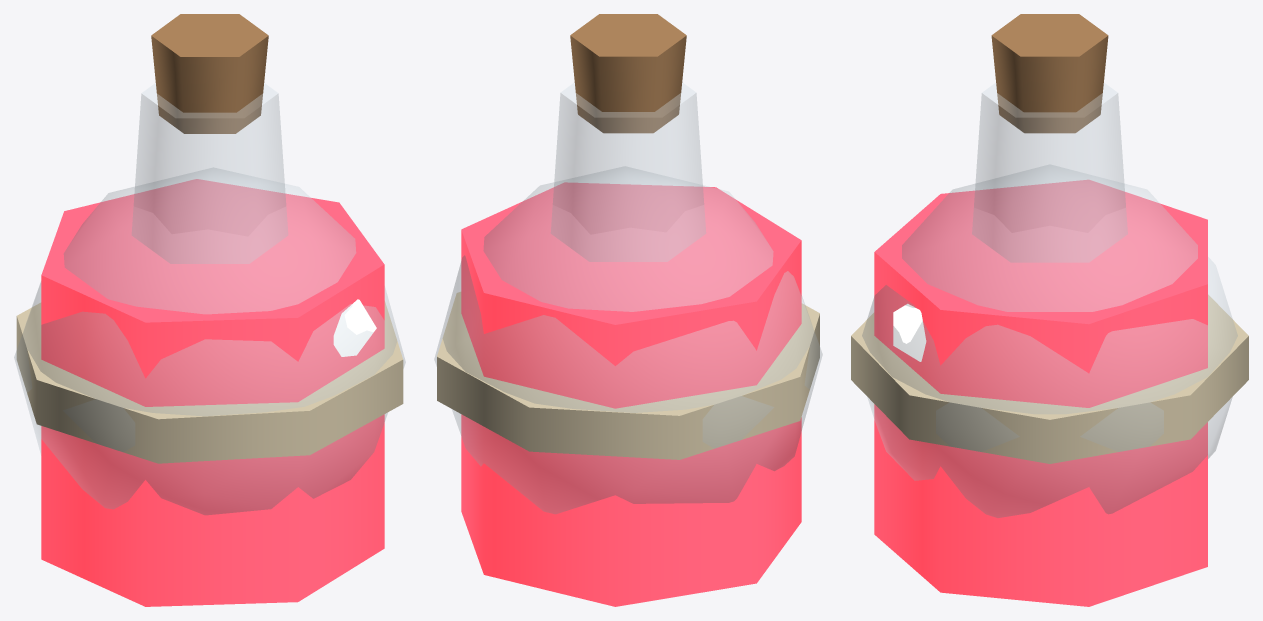
Rendered from potion_hp_l.glb.
3 views of the same model, side by side, from view 1: azimuth 30°, elevation 25°; view 2: azimuth 150°, elevation 25°; view 3: azimuth 270°, elevation 25° (orthographic).
Visible parts, largest first — view 1: item_hpLiquid, item_glass, item_label, item_cork, item_shine; view 2: item_hpLiquid, item_glass, item_label, item_cork; view 3: item_hpLiquid, item_glass, item_label, item_cork, item_shine.
Part boxes in pixels (x1,y1,x2,y2): item_hpLiquid: (41,179,384,606); item_glass: (14,83,405,514); item_label: (16,301,403,463); item_cork: (151,14,268,133); item_shine: (333,299,376,356); item_hpLiquid: (461,182,801,606); item_glass: (434,83,822,513); item_label: (437,292,819,459); item_cork: (570,14,686,133); item_hpLiquid: (874,180,1207,606); item_glass: (862,83,1237,517); item_label: (851,294,1248,463); item_cork: (991,14,1108,133); item_shine: (893,304,926,361).
Bounding box in the file's own units: 0.2448 × 0.339 × 0.2448.
